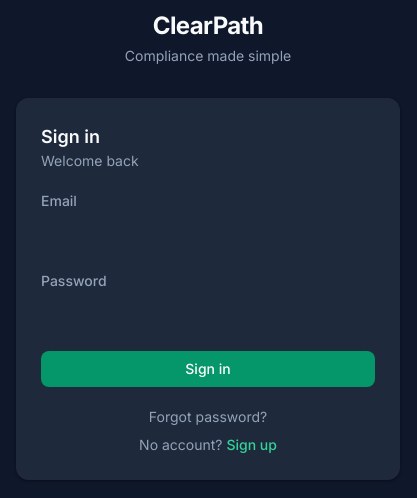
AuthPage › switches to signup view when Sign up link is clicked
Step 1. Click the button "Sign up" → coordinates (252, 445), box x1=226 y1=435 x2=277 y2=455
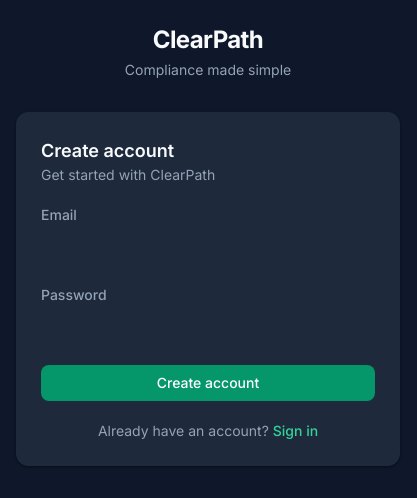
Expected: the button "Create account" is shown, x1=41 y1=365 x2=375 y2=401
